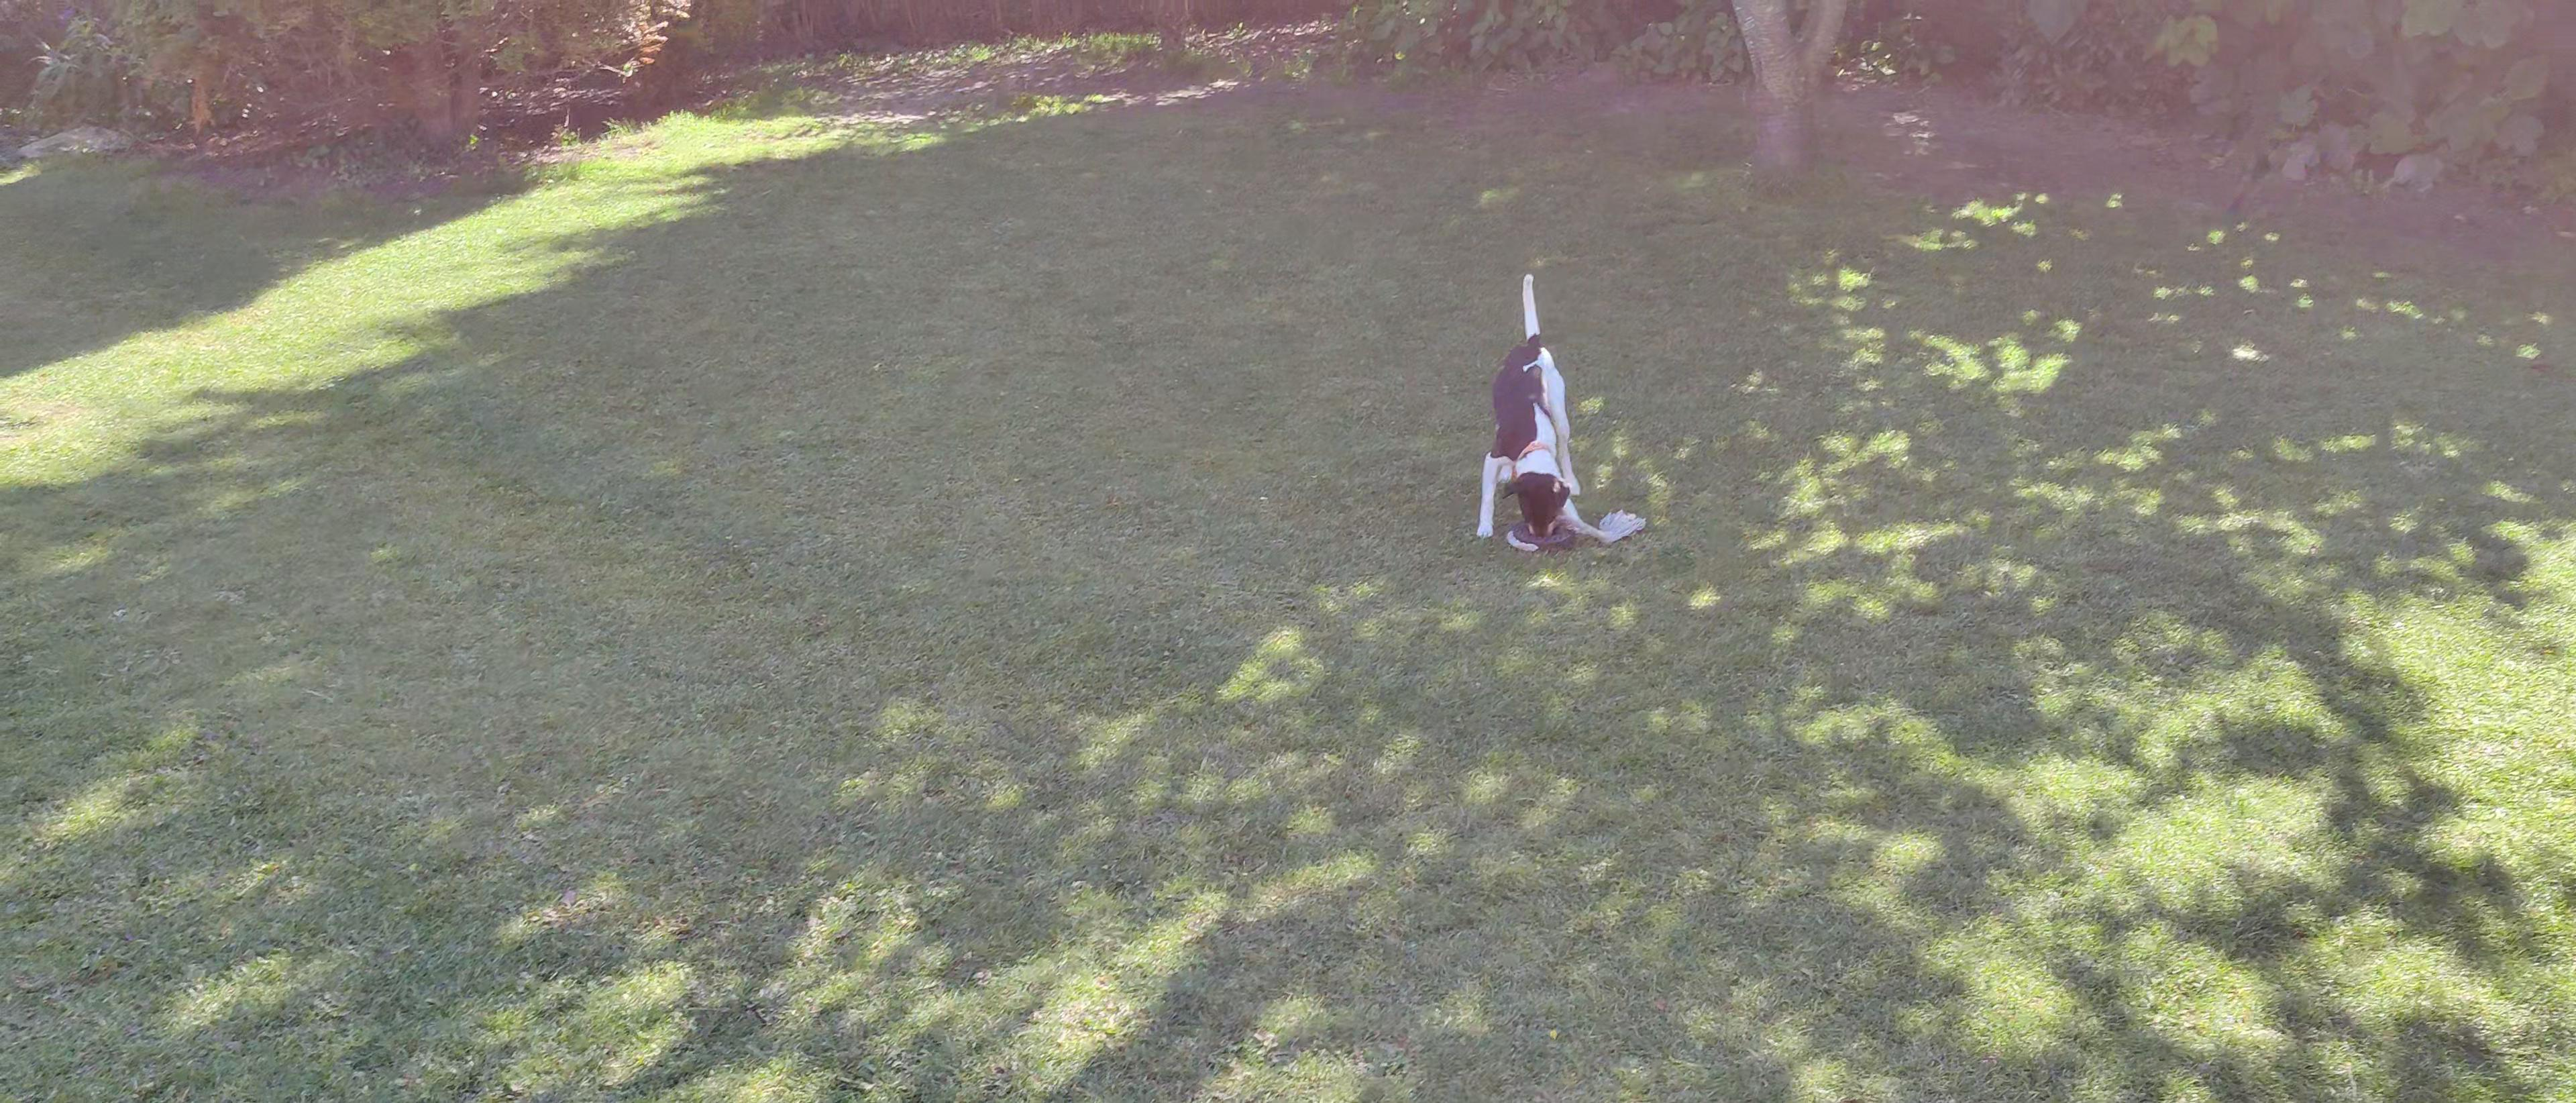Dog: (1472, 271, 1585, 541)
